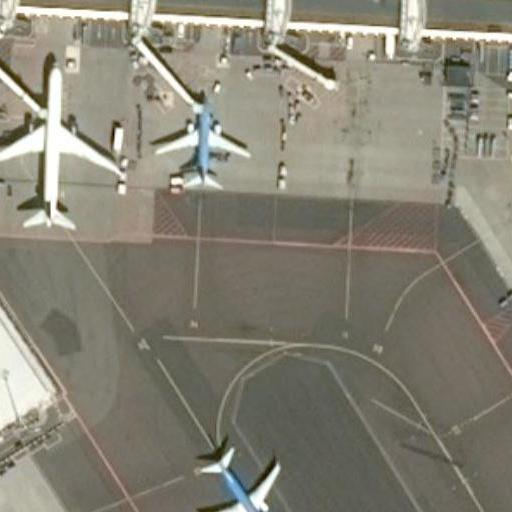Aircraft: (0, 59, 119, 233), (144, 92, 238, 195), (182, 433, 296, 511)
